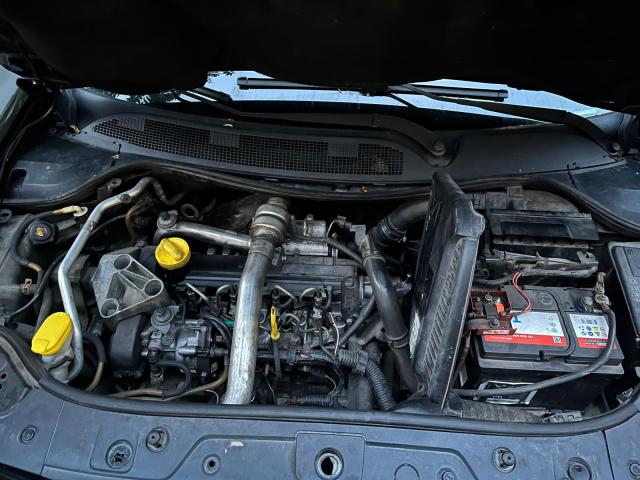accumulator: (456, 285, 624, 410)
antifreeze_tank: (0, 215, 58, 324)
fuse_box: (609, 243, 640, 339)
high_pressure_pump: (141, 318, 229, 379)
